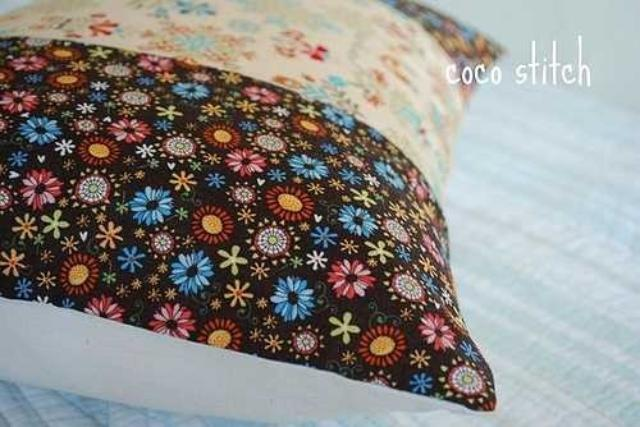pillow: (1, 2, 503, 416)
